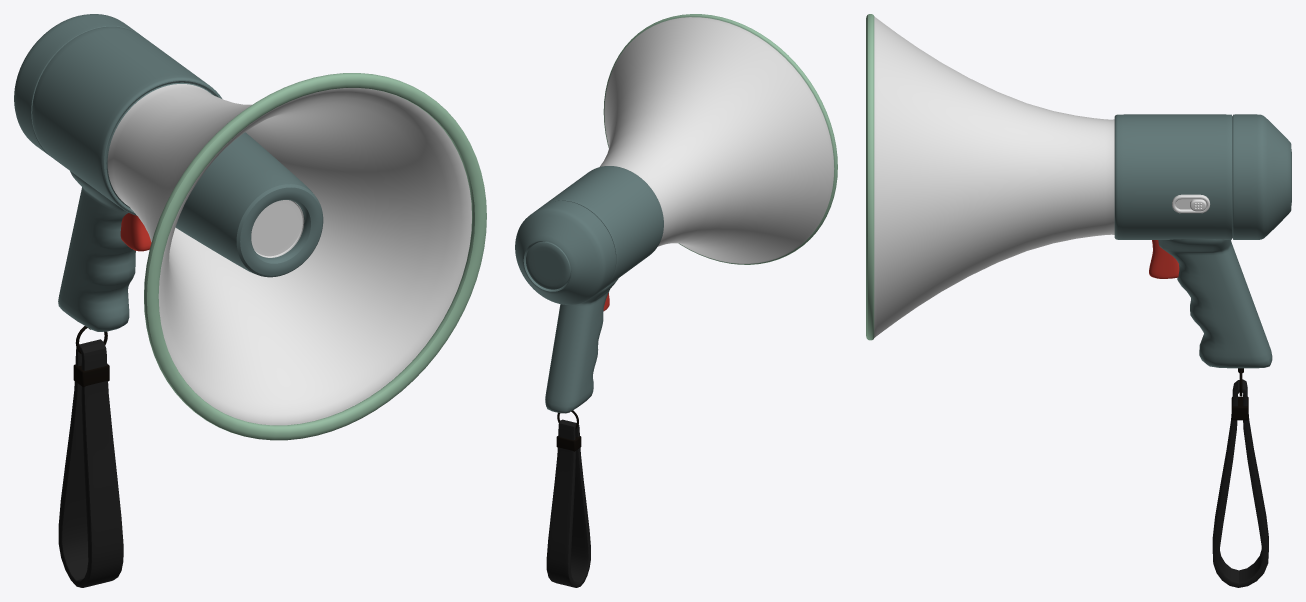
File: laba.FBX
3 renders of one model, left to right at view 1: azimuth 30°, elevation 25°; view 2: azimuth 150°, elevation 25°; view 3: azimuth 270°, elevation 25°, orthographic. The views are drawn at different scales.
Parts seen in each view (by area): view 1: Loudspeaker_04; view 2: Loudspeaker_04; view 3: Loudspeaker_04.
Part boxes in pixels (left/top/right/bottom): Loudspeaker_04: left=14, top=14, right=486, bottom=587; Loudspeaker_04: left=515, top=14, right=837, bottom=587; Loudspeaker_04: left=866, top=14, right=1291, bottom=587.
Bounding box in the file's own units: 48043 × 89777 × 62679.
